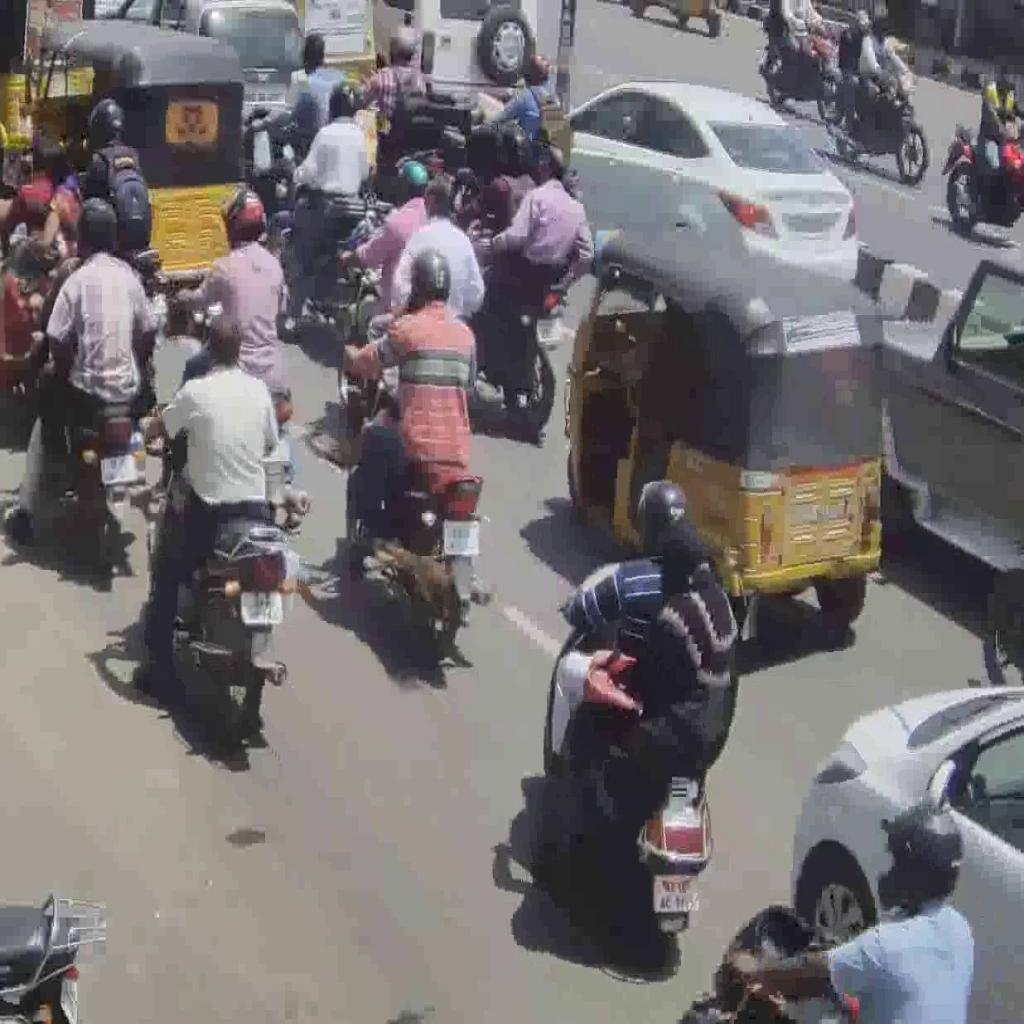helmet: (532, 556, 717, 976), (145, 407, 290, 741), (344, 342, 490, 666), (178, 286, 310, 544), (41, 314, 144, 570), (681, 896, 885, 1024), (333, 236, 440, 411), (266, 179, 375, 341), (478, 264, 568, 436)
